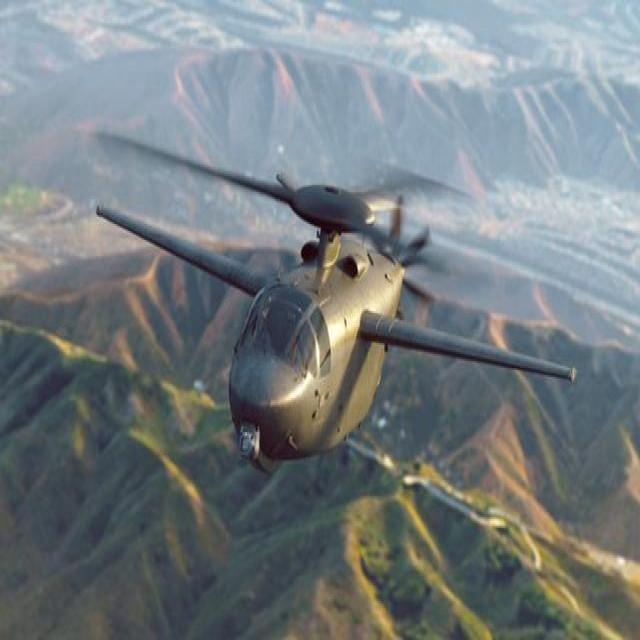MIL_HELO: (82, 120, 584, 488)
